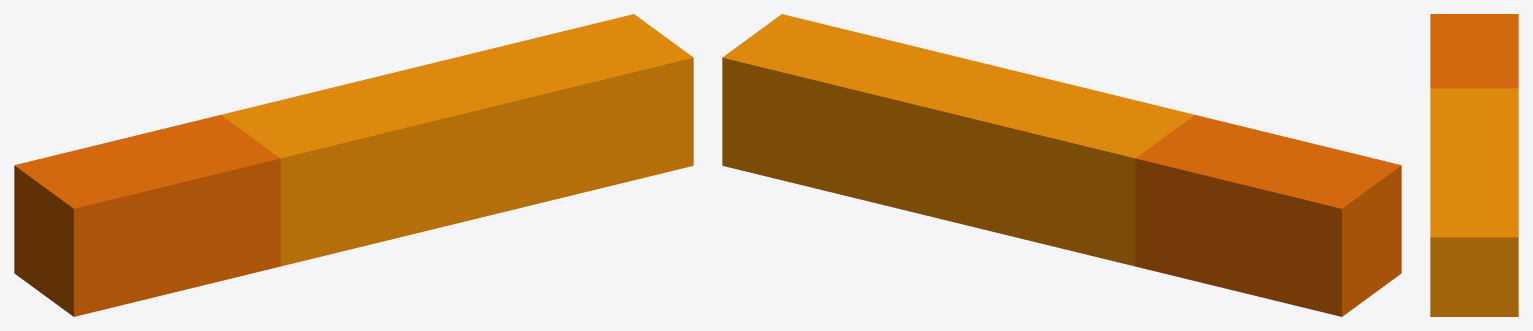
File: Animals-26.obj
3 views of the same model, side by side, from view 1: azimuth 30°, elevation 25°; view 2: azimuth 150°, elevation 25°; view 3: azimuth 270°, elevation 25° (orthographic). The views are drawn at different scales.
Size of the model in its own units: 0.6 by 0.1 by 0.1.
1 material, 1 textured.
